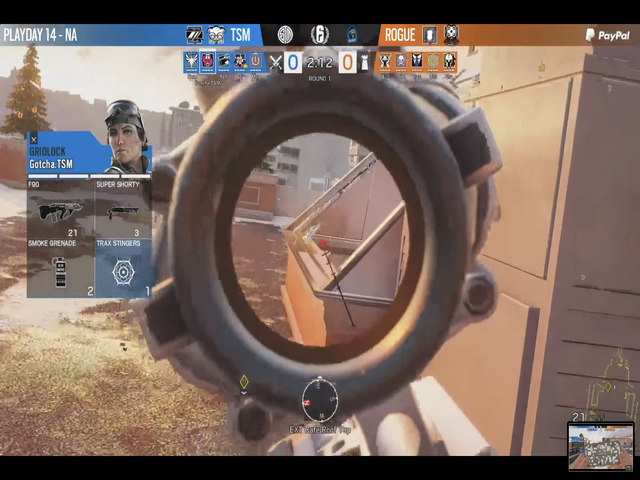0_blue: (283, 49, 304, 76)
